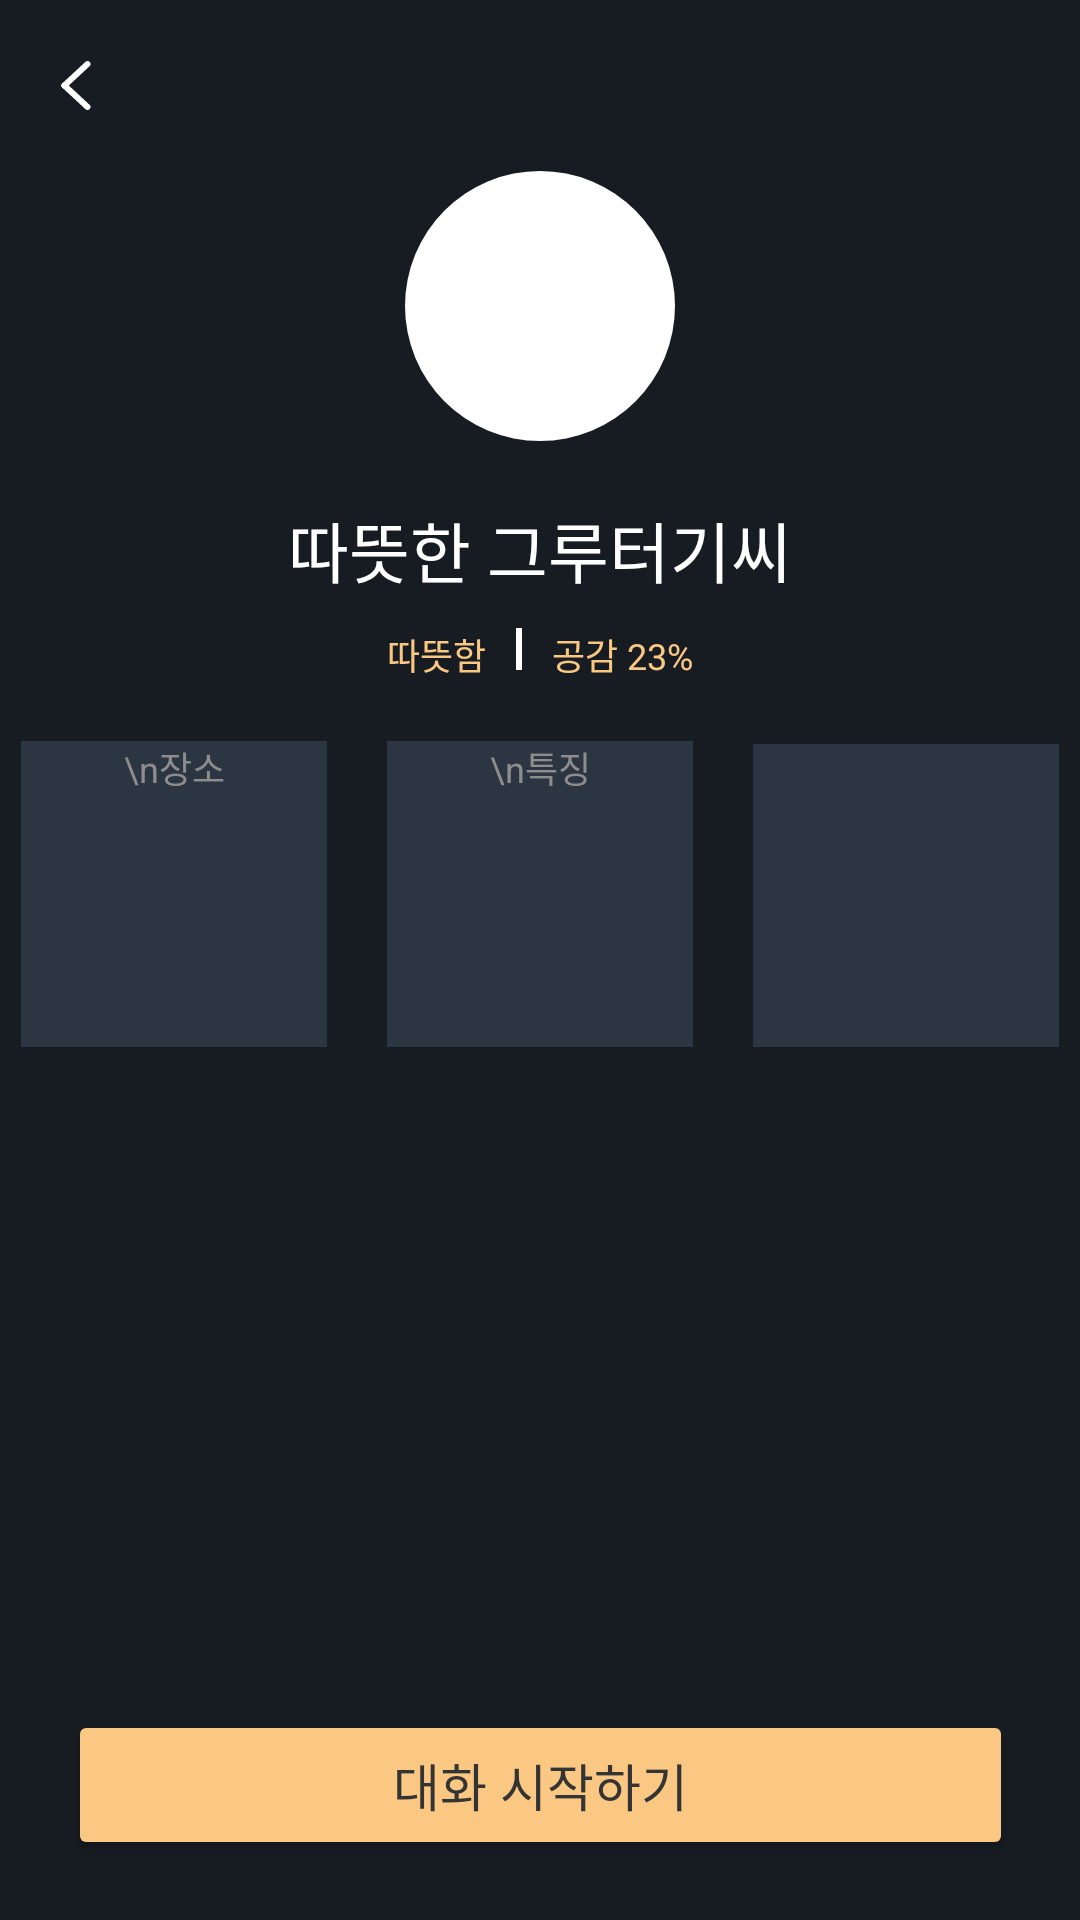

Icon click points for this 1080 × 1920 phone screenshot, format (x=x, y=y):
back: (x=76, y=85)
